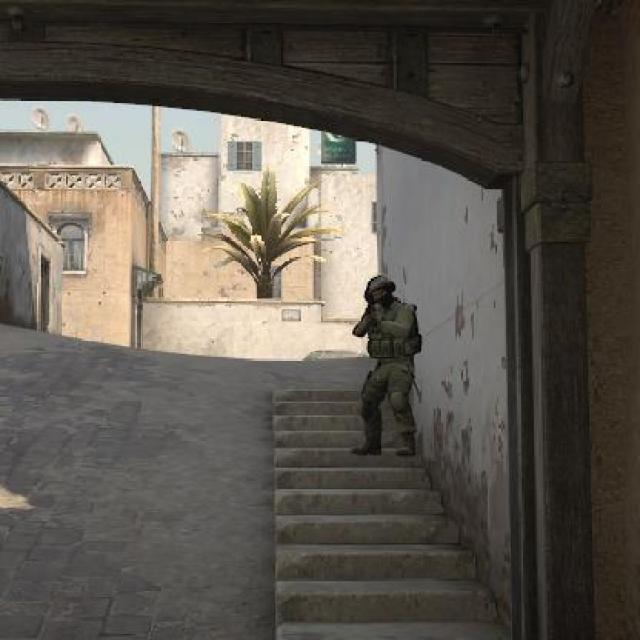CT-Body: (362, 274, 398, 310)
CT-Head: (349, 271, 424, 457)
